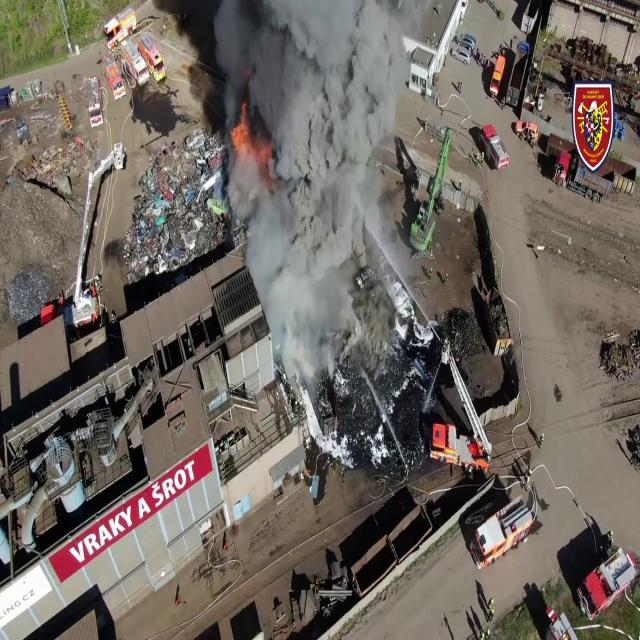Fire: (230, 97, 253, 163)
Smoke: (210, 1, 420, 380)
